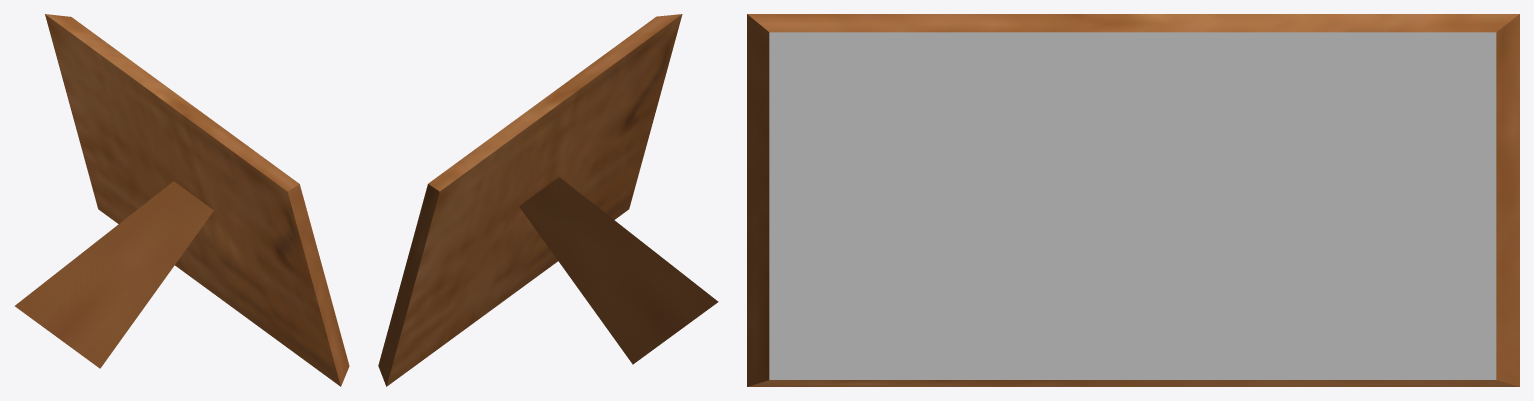
The model's file is M_Home_Garden_Photoframe_01.fbx.
The picture shows the model from 3 angles, left to right: view 1: azimuth 30°, elevation 25°; view 2: azimuth 150°, elevation 25°; view 3: azimuth 270°, elevation 25°; orthographic projection. The views are drawn at different scales.
Visible parts, largest first — view 1: M_Home_Garden_Photoframe_01; view 2: M_Home_Garden_Photoframe_01; view 3: M_Home_Garden_Photoframe_01.
Part boxes in pixels (x1,y1,x2,y2): M_Home_Garden_Photoframe_01: (15, 14, 349, 386); M_Home_Garden_Photoframe_01: (378, 14, 718, 386); M_Home_Garden_Photoframe_01: (747, 14, 1519, 386).
Size of the model in its own units: 11.66 by 12.85 by 27.14.
